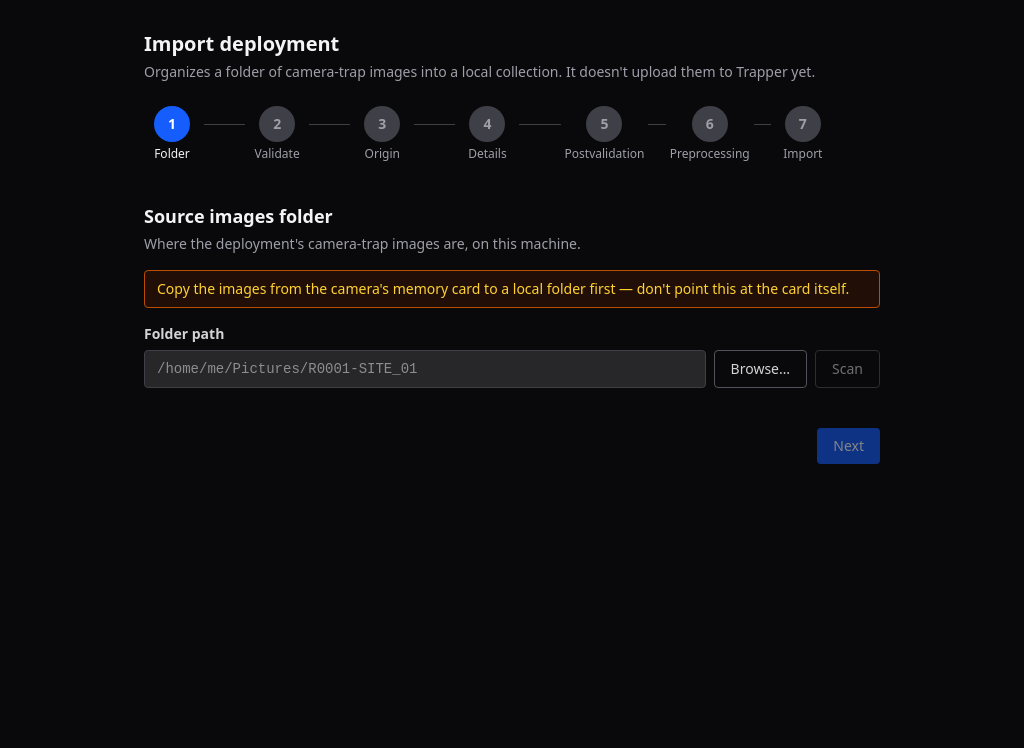
Test case: ImportDeploymentPage › where the images were taken › adding a research project from Trapper › the Trapper research projects can be filtered as you type
The image size is (1024, 748).
Type "/home/me/deployments/DONA_01" into the field labelled "Folder path".
click(425, 369); type("/home/me/deployments/DONA_01")  # box [144,350,706,388]
Click the button "Scan".
click(848, 369)  # box [815,350,880,388]
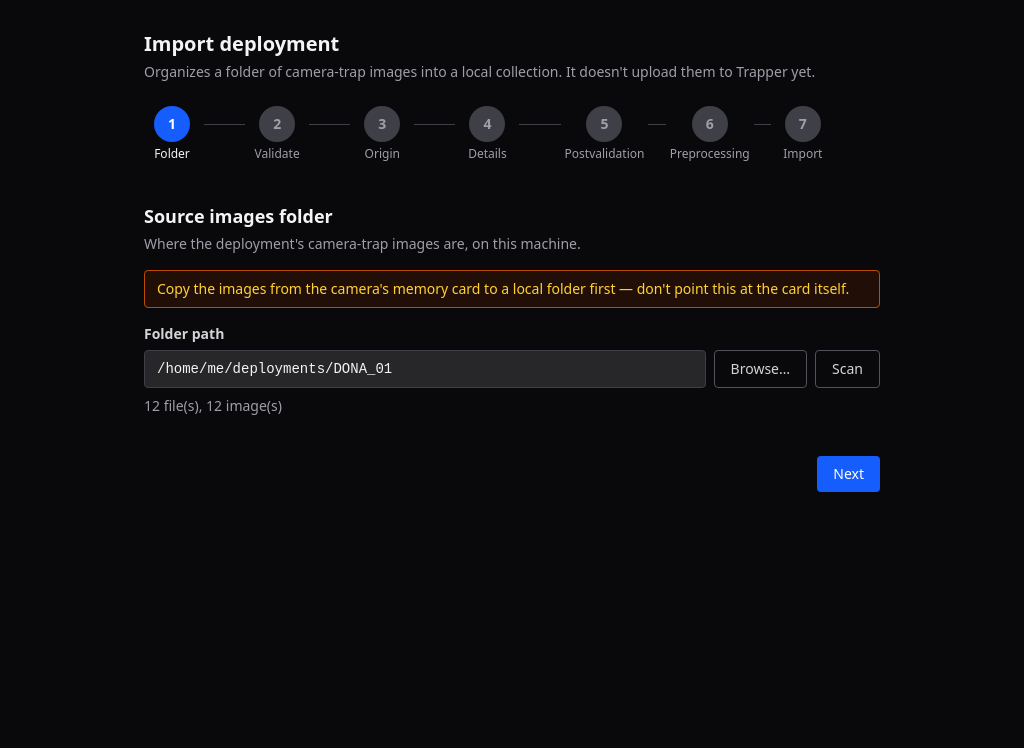
Expected: the text "12 file(s), 12 image(s)" is shown, [144,396,282,415]
Click the button "Next".
click(849, 474)  # box [817,456,880,492]
(page scrolled)
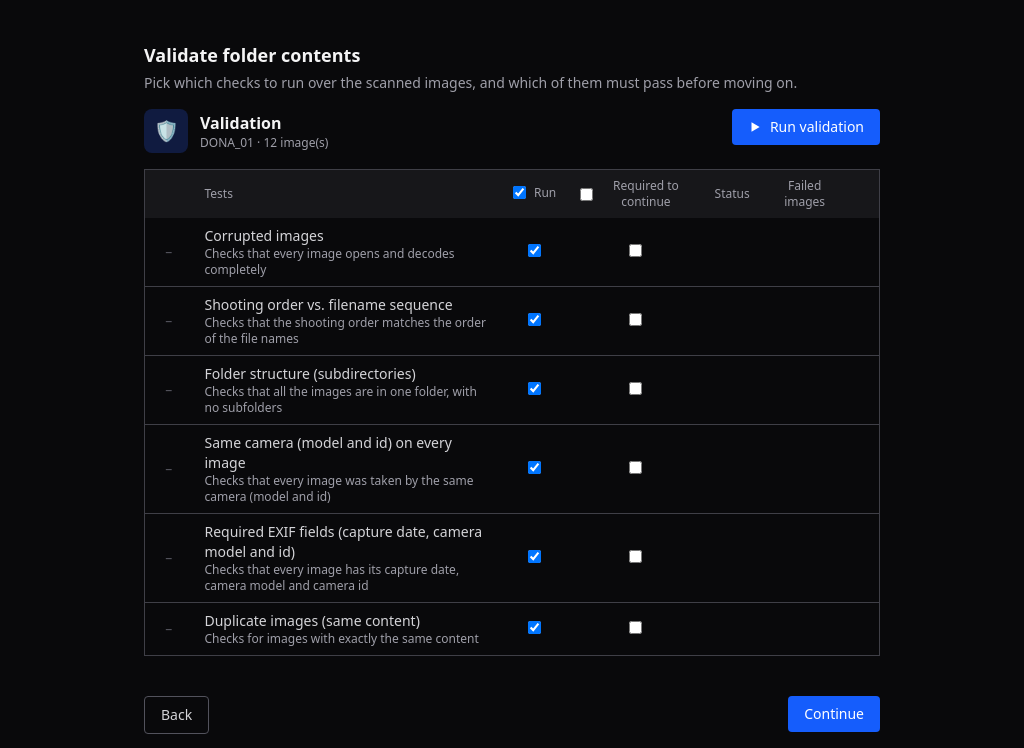
Expected: the heading "Validate folder contents" is shown, [144,43,360,67]
Click the button "Continue".
click(834, 714)  # box [788,696,880,732]
(page scrolled)
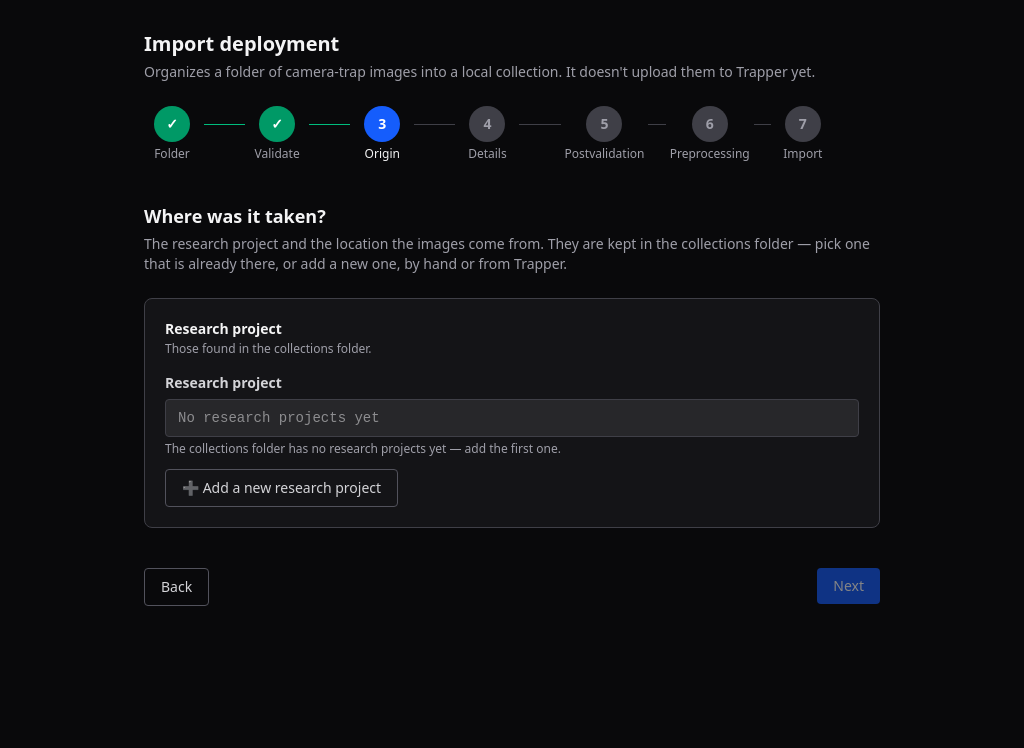
Expected: the heading "Where was it taken?" is shown, [144,204,326,228]
Click the button "➕ Add a new research project".
click(282, 488)  # box [165,469,398,507]
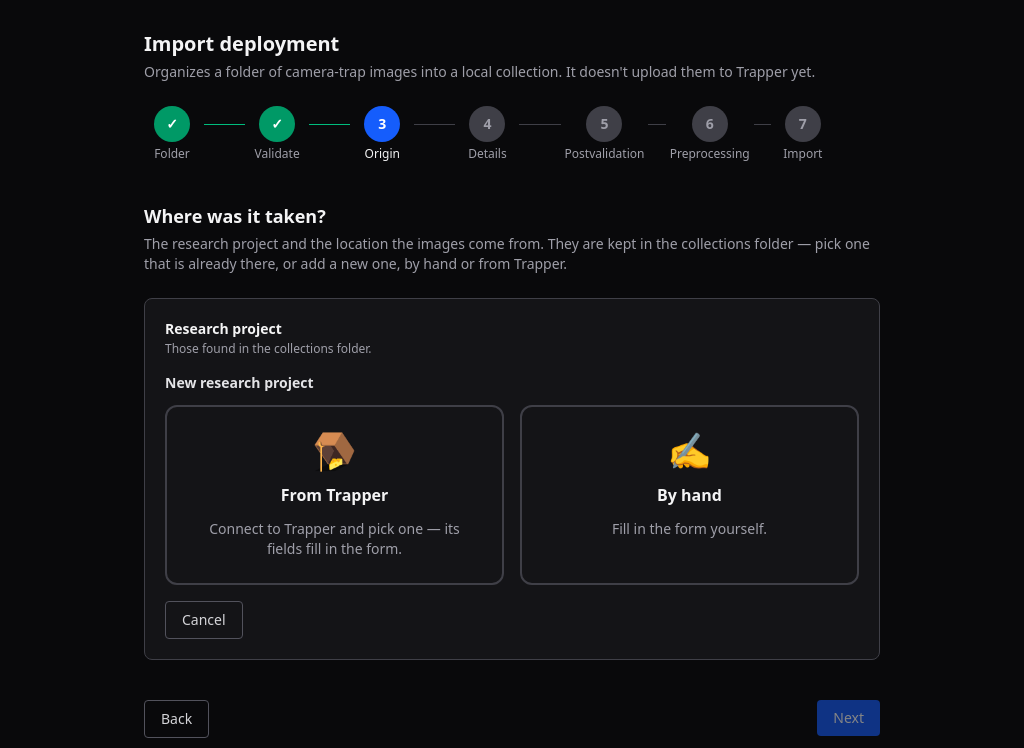
Click the button "From Trapper".
click(334, 495)  # box [165,405,504,585]
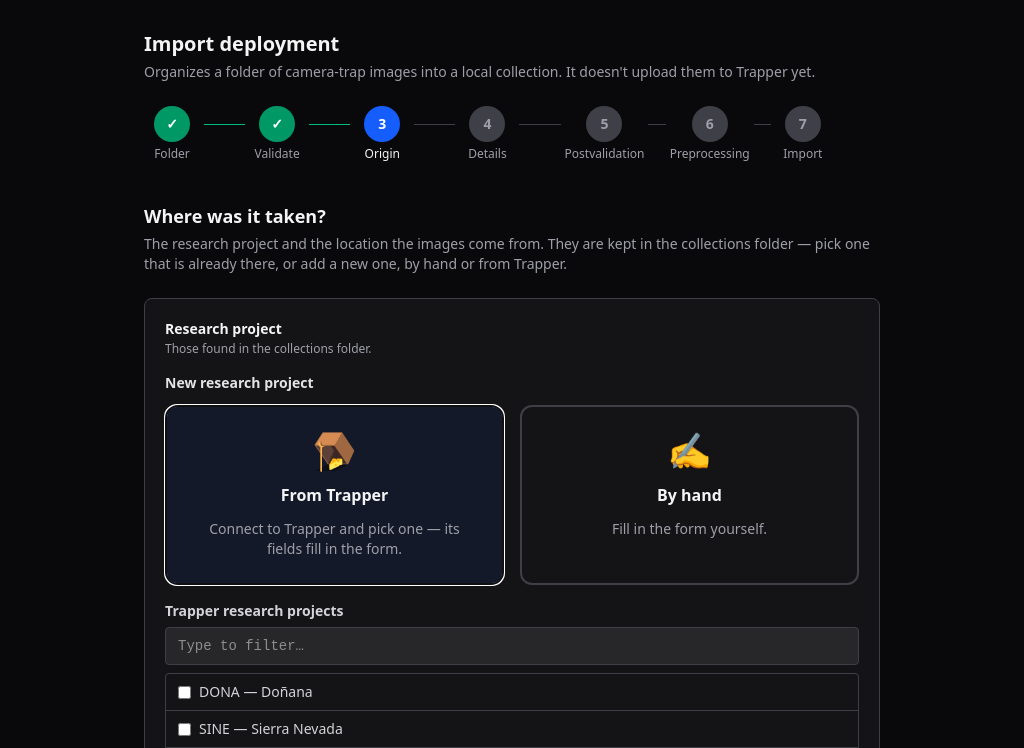
Type "caz" into the field named "Filter Trapper research projects".
click(512, 646); type("caz")  # box [165,627,859,665]
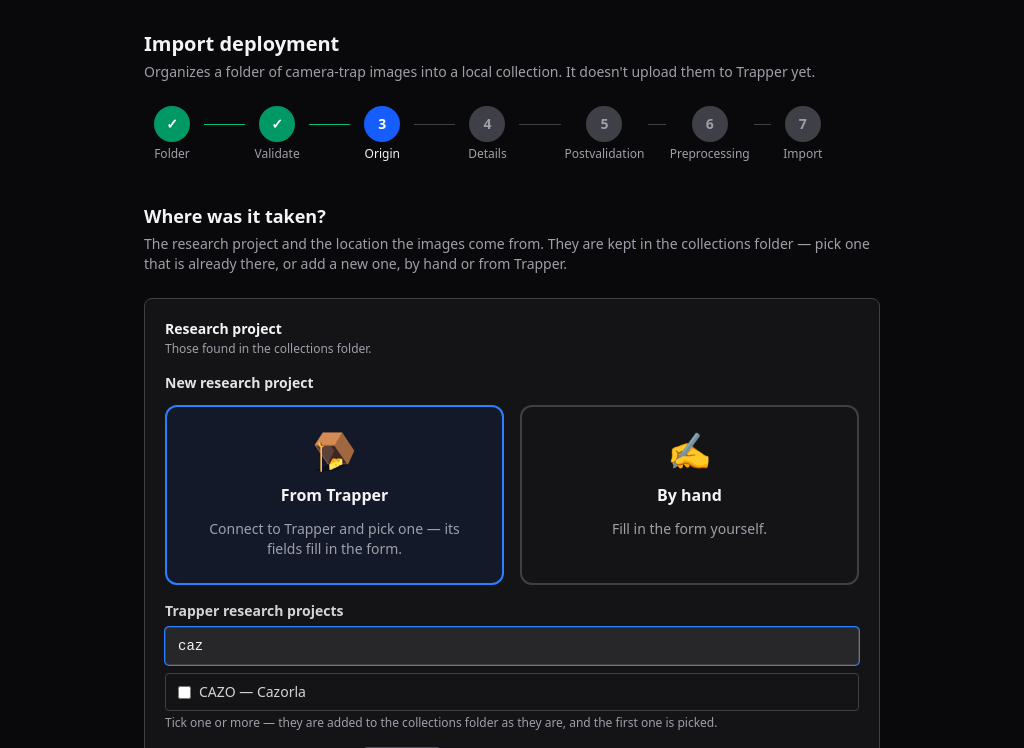
Expected: the checkbox labelled "CAZO — Cazorla" is shown, [178,686,191,698]
Expected: the label "DONA — Doñana" is gone
